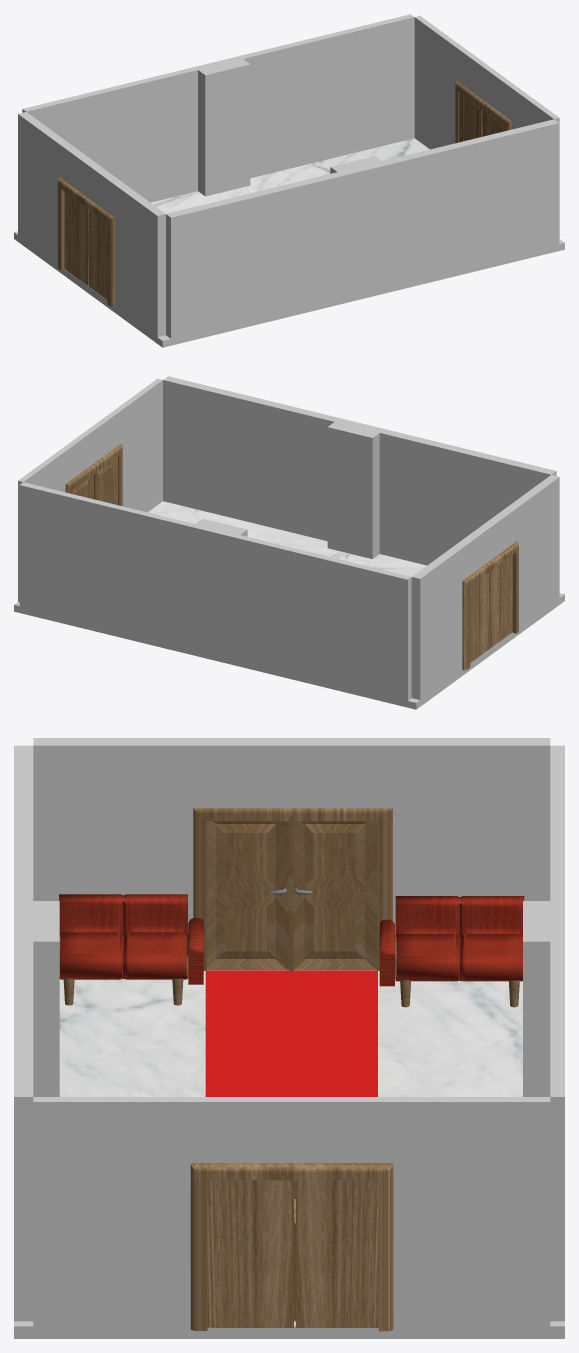
Rendered from MuseumRoom.fbx.
The picture shows the model from 3 angles, top to bottom: view 1: azimuth 30°, elevation 25°; view 2: azimuth 150°, elevation 25°; view 3: azimuth 270°, elevation 25°; orthographic projection. The views are drawn at different scales.
Visible parts, largest first — view 1: Cube, Door, Cube.001, Door.001, Cube.002; view 2: Cube, Door, Cube.001, Door.001, Cube.002; view 3: Cube, Door, Door.001, sofa, sofa.001, Cube.002, Cube.001.
Part boxes in pixels (bbox=[...]): Cube: bbox=[14, 14, 564, 347]; Door: bbox=[64, 192, 107, 299]; Cube.001: bbox=[57, 177, 114, 306]; Door.001: bbox=[459, 93, 503, 142]; Cube.002: bbox=[455, 81, 511, 143]; Cube: bbox=[14, 376, 564, 709]; Door: bbox=[470, 555, 512, 662]; Cube.001: bbox=[462, 541, 518, 670]; Door.001: bbox=[72, 457, 117, 504]; Cube.002: bbox=[65, 444, 122, 506]; Cube: bbox=[14, 738, 564, 1338]; Door: bbox=[206, 815, 377, 971]; Door.001: bbox=[207, 1180, 378, 1327]; sofa: bbox=[59, 894, 203, 1005]; sofa.001: bbox=[379, 896, 524, 1007]; Cube.002: bbox=[190, 1163, 393, 1331]; Cube.001: bbox=[193, 808, 392, 970].
Bounding box in the file's own units: 1071 × 320 × 673.
